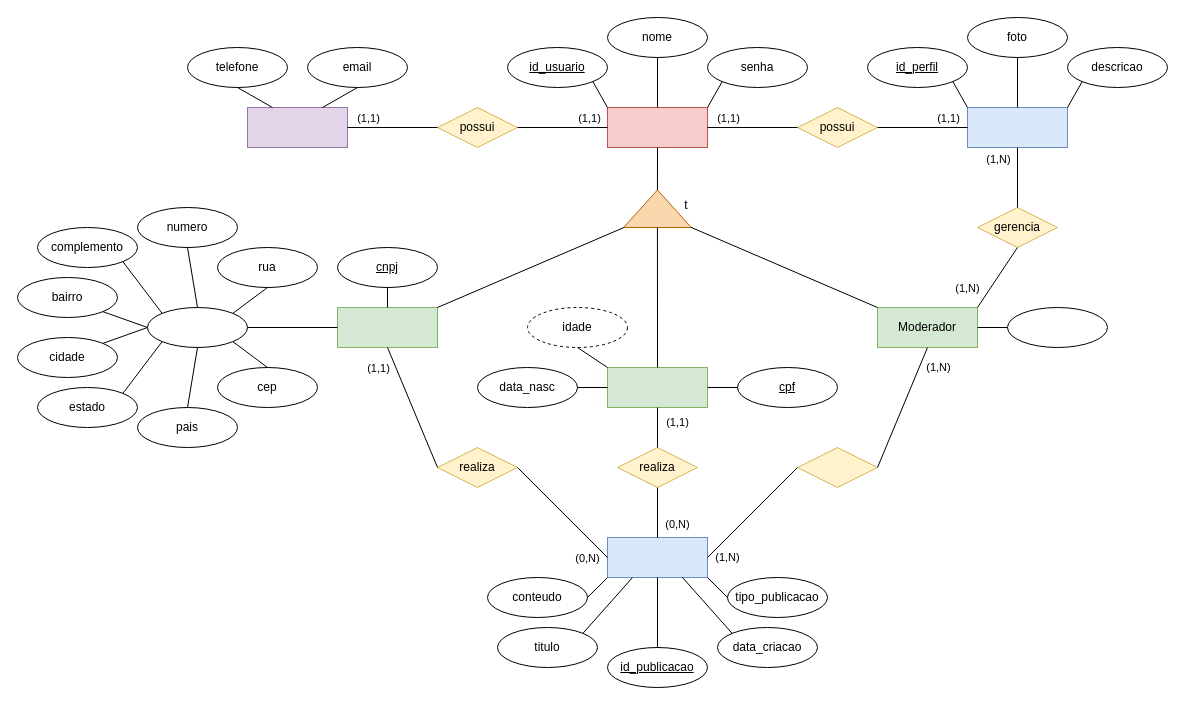
Some shapes in this 1185 by 705 pixel diagram are drawn without their labels. The shapes that lost their labels are listed below. From the top down, each one's centre as x and y in pixels, then its label:
At pixel 297 127: "Contato".
At pixel 657 127: "Usuário".
At pixel 1017 127: "Perfil".
At pixel 197 327: "endereco".
At pixel 387 327: "ONG".
At pixel 1057 327: "id_moderador".
At pixel 657 387: "Cidadão".
At pixel 837 467: "valida".
At pixel 657 557: "Publicação".
